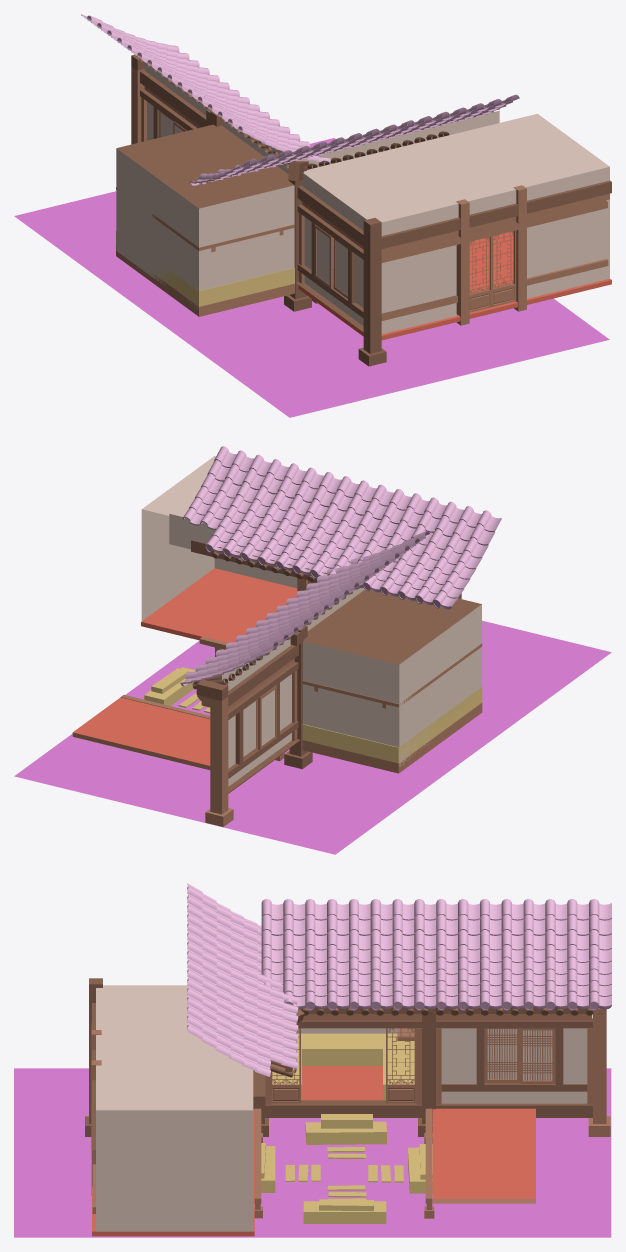
The model's file is HanokBackground_Export.fbx.
3 renders of one model, top to bottom at view 1: azimuth 30°, elevation 25°; view 2: azimuth 150°, elevation 25°; view 3: azimuth 270°, elevation 25°, orthographic. The views are drawn at different scales.
Visible parts, largest first — view 1: RoofTiles; view 2: RoofTiles; view 3: RoofTiles.
Part boxes in pixels (box(x1,y1,x2,y2)): RoofTiles: box(14, 14, 611, 417); RoofTiles: box(14, 446, 611, 854); RoofTiles: box(14, 883, 611, 1237).
Bounding box in the file's own units: 1114 × 575 × 1486.
